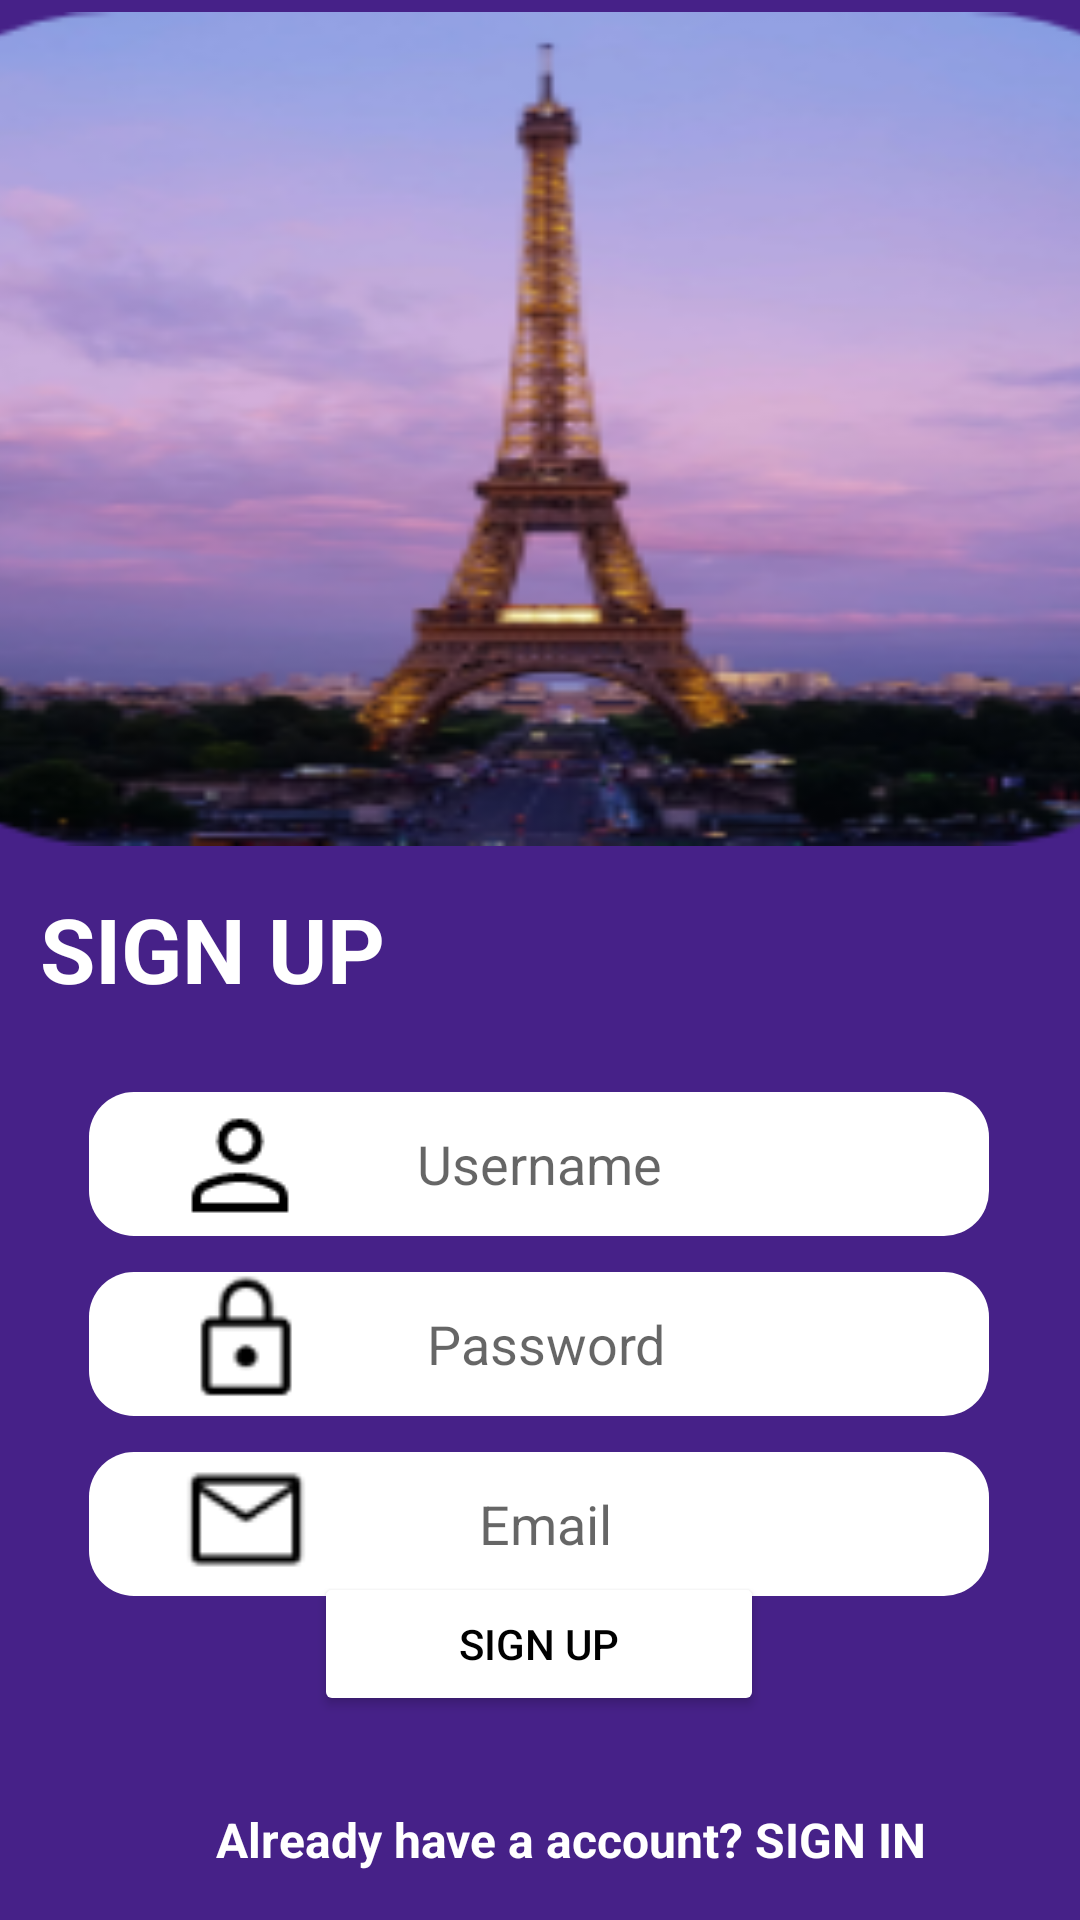

Where to tap for icons on this 1080x1920 app screen, as (x,y):
passowrd: (246,1336)
